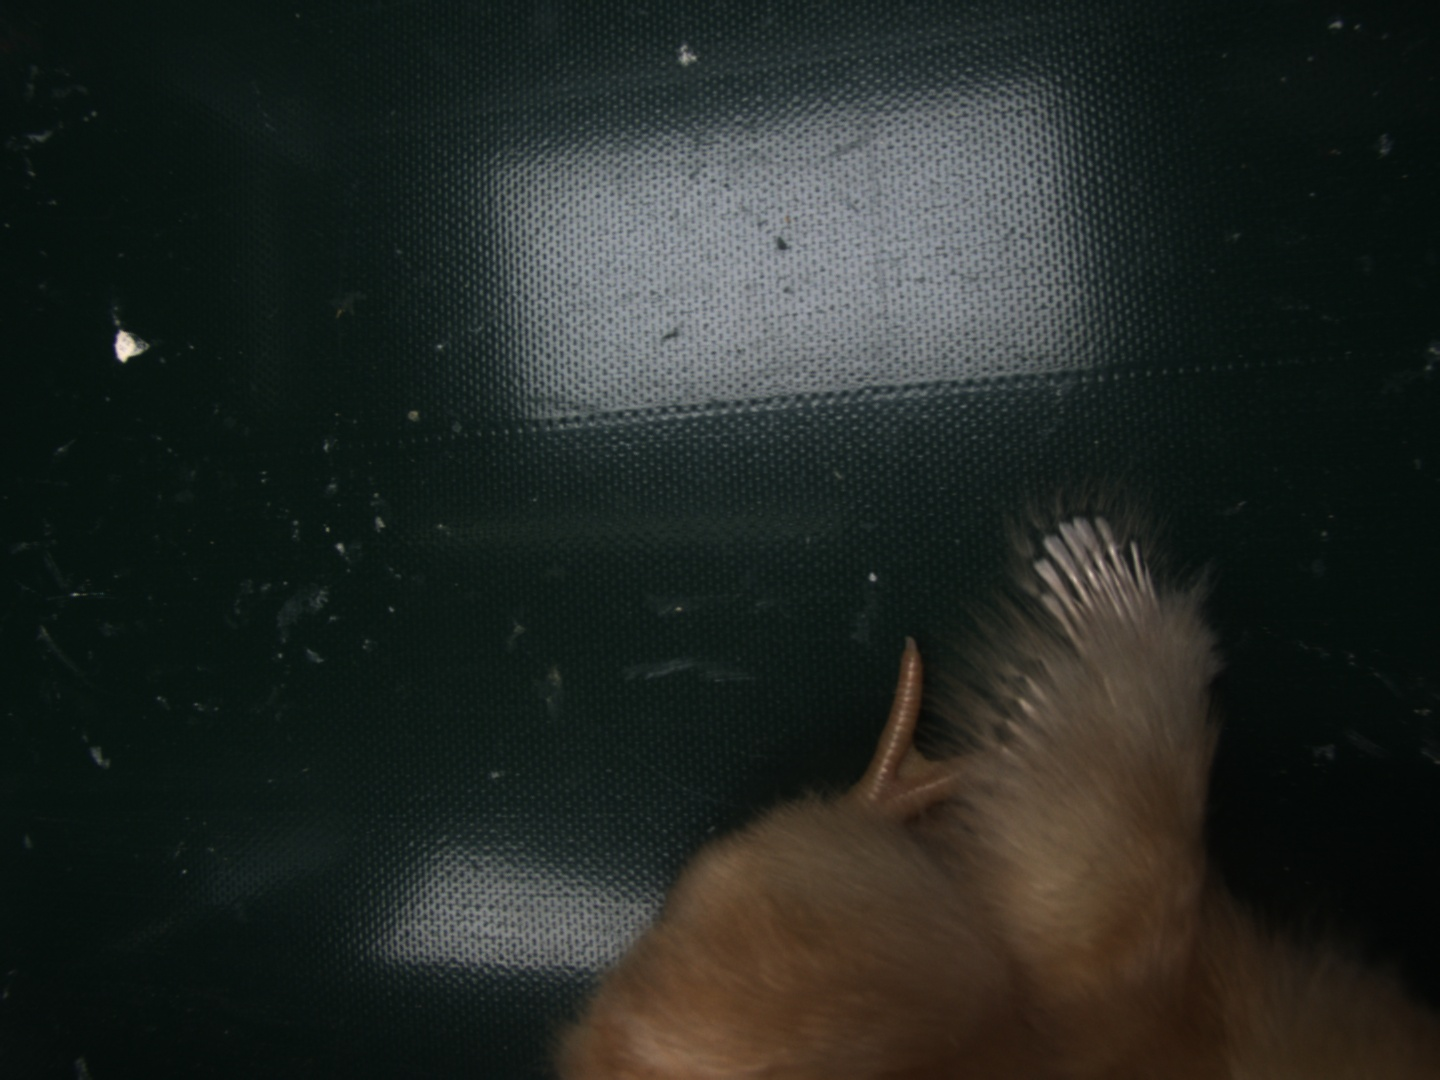female: (1025, 512, 1166, 656)
